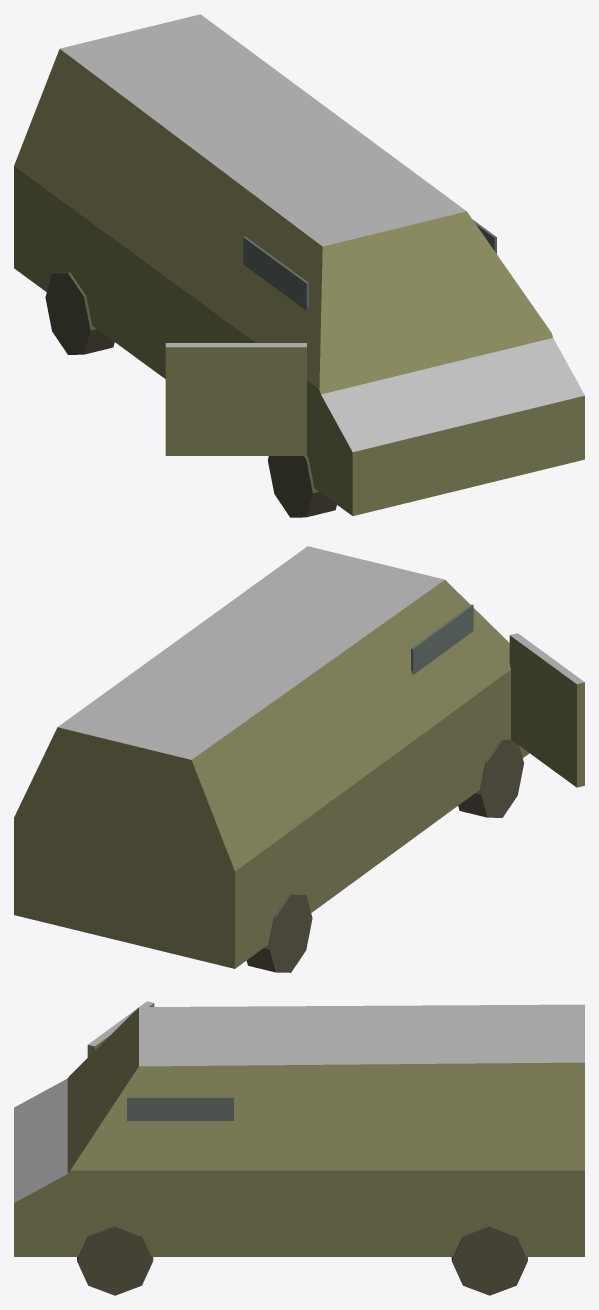
Rendered from SM_CocheCivil_Furgoneta_v1_LOD1.fbx.
3 renders of one model, top to bottom at view 1: azimuth 30°, elevation 25°; view 2: azimuth 150°, elevation 25°; view 3: azimuth 270°, elevation 25°, orthographic. The views are drawn at different scales.
Parts seen in each view (by area): view 1: SM_coche_civil_v11_LOD1; view 2: SM_coche_civil_v11_LOD1; view 3: SM_coche_civil_v11_LOD1.
Boxes of the visible parts, box(x1,y1,x2,y2) form: SM_coche_civil_v11_LOD1: box(14, 14, 584, 517); SM_coche_civil_v11_LOD1: box(14, 546, 584, 972); SM_coche_civil_v11_LOD1: box(14, 1001, 584, 1295).
Bounding box in the file's own units: 2.8 × 1.98 × 4.8.
